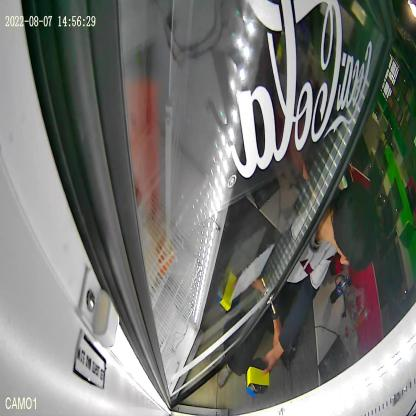blue: (245, 368, 260, 398)
yellow: (247, 358, 270, 394)
